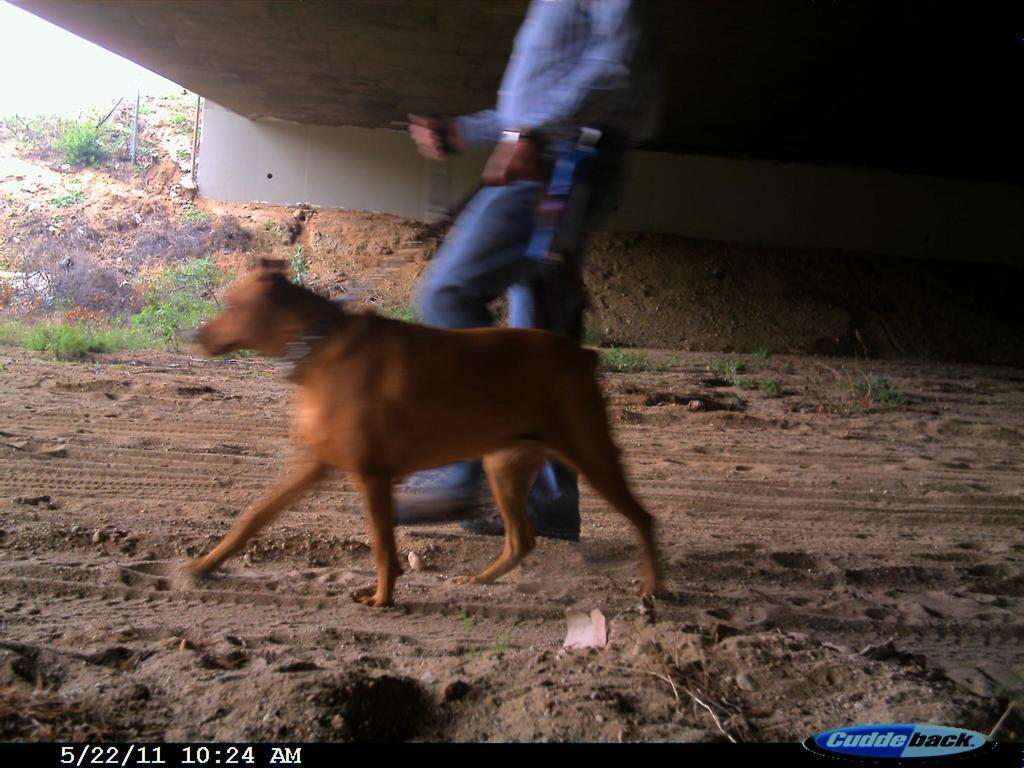dog: (177, 250, 683, 615)
